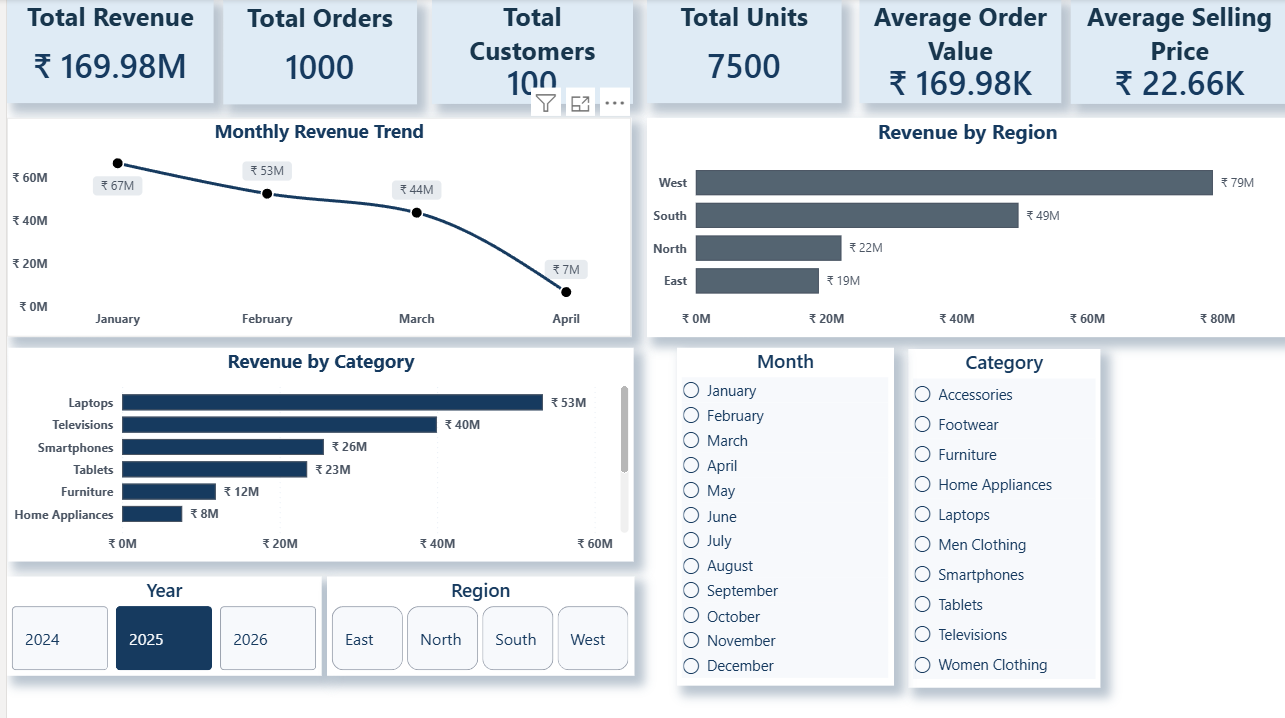

The dashboard page shown, as its layout file describes it:
{"tool":"powerbi","page":{"name":"Executive Sales Overview","canvas":[1280,720],"ordinal":0},"visuals":[{"type":"card","title":"Total Revenue","fields":{"Values":["FactSales.Total Revenue"]},"box":[0,0,206.7,103.9],"z":0},{"type":"card","title":"Total Orders","fields":{"Values":["FactSales.Total Orders"]},"box":[216.4,1.2,193.2,103.9],"z":1000},{"type":"card","title":"Total Customers","fields":{"Values":["FactSales.Total Customers"]},"box":[424.3,0,200.5,105.2],"z":2000},{"type":"card","title":"Total Units","fields":{"Values":["FactSales.Total Units"]},"box":[639.5,0,194.4,103.9],"z":3000},{"type":"card","title":"Average Order Value","fields":{"Values":["FactSales.Average Order Value"]},"box":[851.1,0,201.8,103.9],"z":4000},{"type":"card","title":"Average Selling Price","fields":{"Values":["FactSales.Average Selling Price"]},"box":[1062.6,0,217.7,105.2],"z":5000},{"type":"lineChart","title":"Monthly Revenue Trend","fields":{"Category":["DimDate.MonthName"],"Y":["FactSales.Total Revenue"]},"box":[0,118.6,623.6,218.9],"z":6000},{"type":"clusteredBarChart","title":"Revenue by Region","fields":{"Category":["DimStore.Region"],"Y":["FactSales.Total Revenue"]},"box":[639.5,118.6,640.8,218.9],"z":7000},{"type":"clusteredBarChart","title":"Revenue by Category","fields":{"Category":["DimProduct.Category"],"Y":["FactSales.Total Revenue"]},"box":[1.2,348.5,624.9,214],"z":8000},{"type":"advancedSlicerVisual","fields":{"Values":["DimDate.Year"]},"box":[0,577.2,314.3,99],"z":9000},{"type":"advancedSlicerVisual","fields":{"Values":["DimStore.Region"]},"box":[319.2,577.2,306.9,99],"z":10000},{"type":"listSlicer","fields":{"Values":["DimProduct.Category"]},"box":[900.2,349.2,192,338.1],"z":11000},{"type":"listSlicer","title":"Month","fields":{"Values":["DimDate.MonthName"]},"box":[668.9,348.5,216.4,337.5],"z":11001}]}

Visuals, with their boxes in screenshot pixels (x1, y1, x2, y2), scaled from the page's 1280x720 canvas onto the 1285x718 screenshot:
"Total Revenue" card: (0,0,208,104)
"Total Orders" card: (217,1,411,105)
"Total Customers" card: (426,0,627,105)
"Total Units" card: (642,0,837,104)
"Average Order Value" card: (854,0,1057,104)
"Average Selling Price" card: (1067,0,1284,105)
"Monthly Revenue Trend" lineChart: (0,118,626,337)
"Revenue by Region" clusteredBarChart: (642,118,1284,337)
"Revenue by Category" clusteredBarChart: (1,348,629,561)
advancedSlicerVisual - DimDate.Year: (0,576,316,674)
advancedSlicerVisual - DimStore.Region: (320,576,629,674)
listSlicer - DimProduct.Category: (904,348,1096,685)
"Month" listSlicer: (672,348,889,684)
